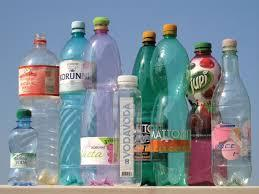Plastic bottle: (1, 20, 255, 185)
